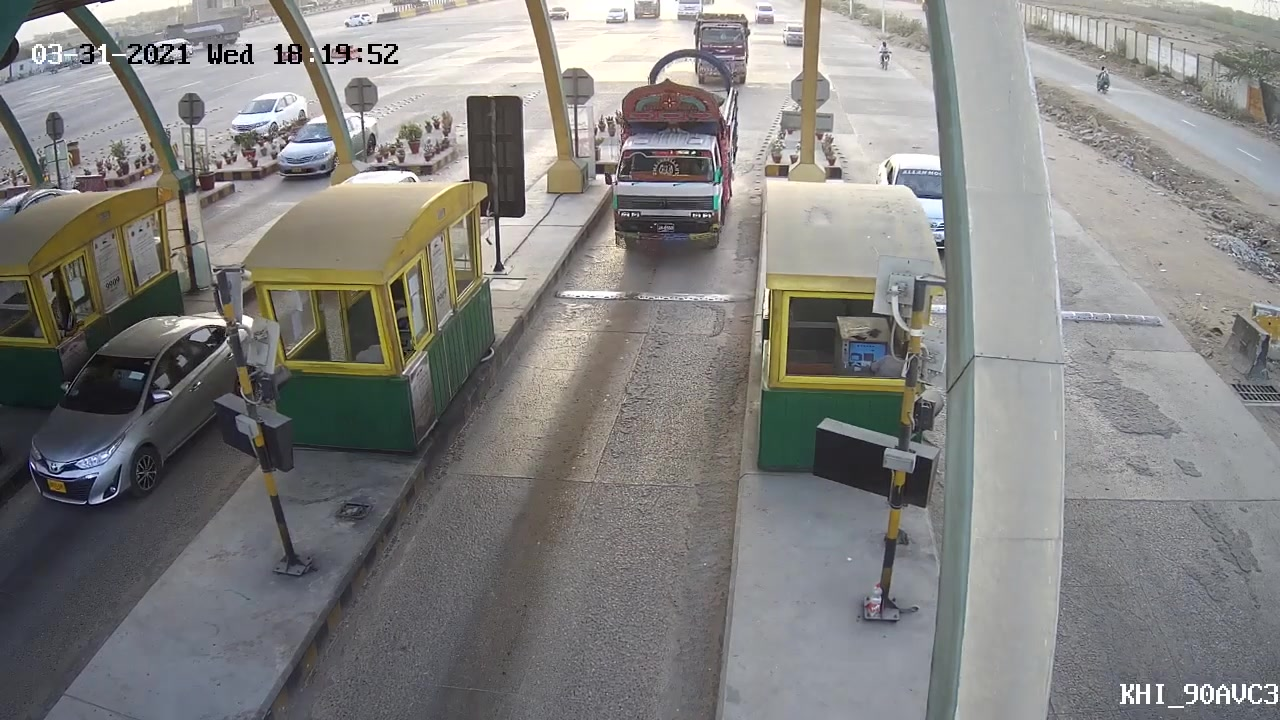F5: (596, 47, 748, 255)
